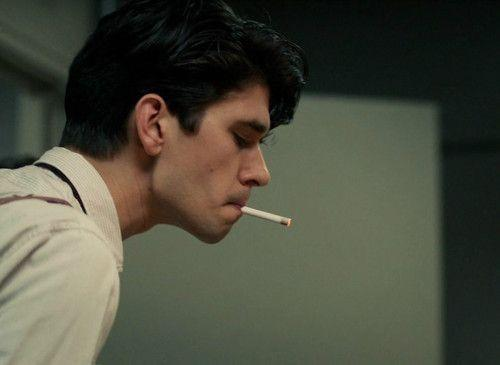cigarette: (240, 205, 292, 227)
